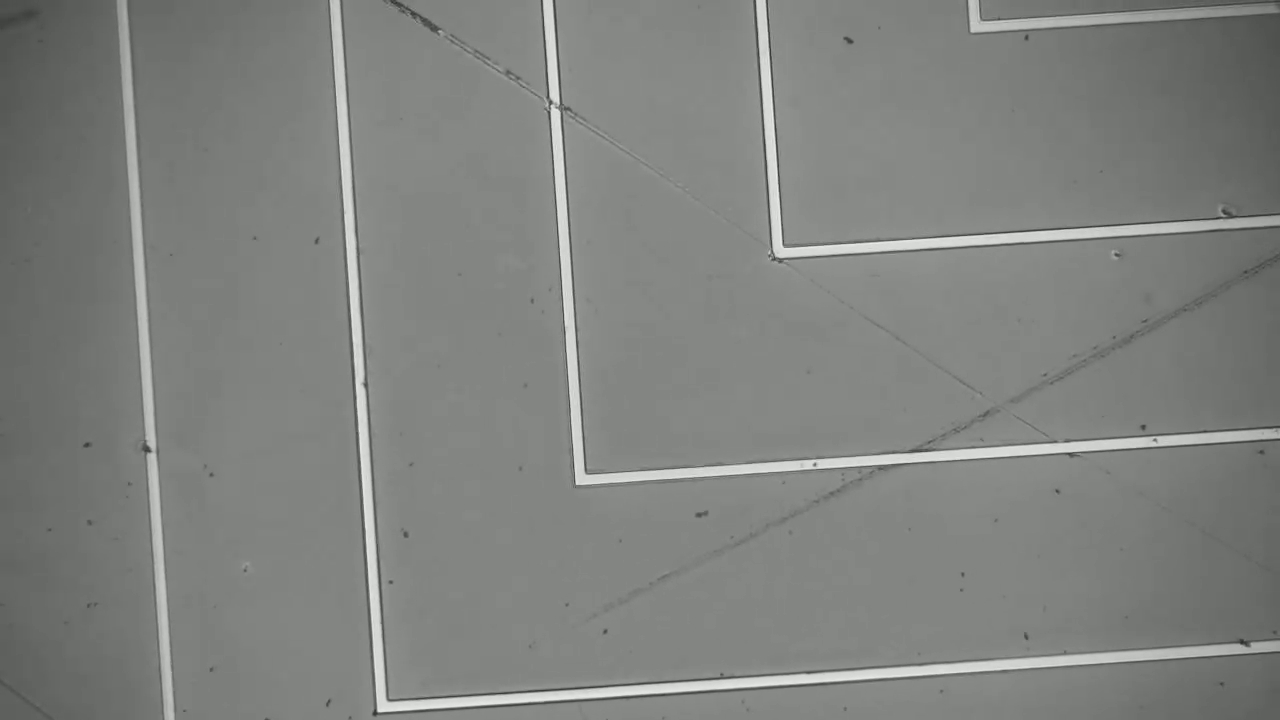scratch: (400, 2, 1263, 563), (575, 260, 1280, 622)
stains_enbedded: (134, 430, 169, 464)
